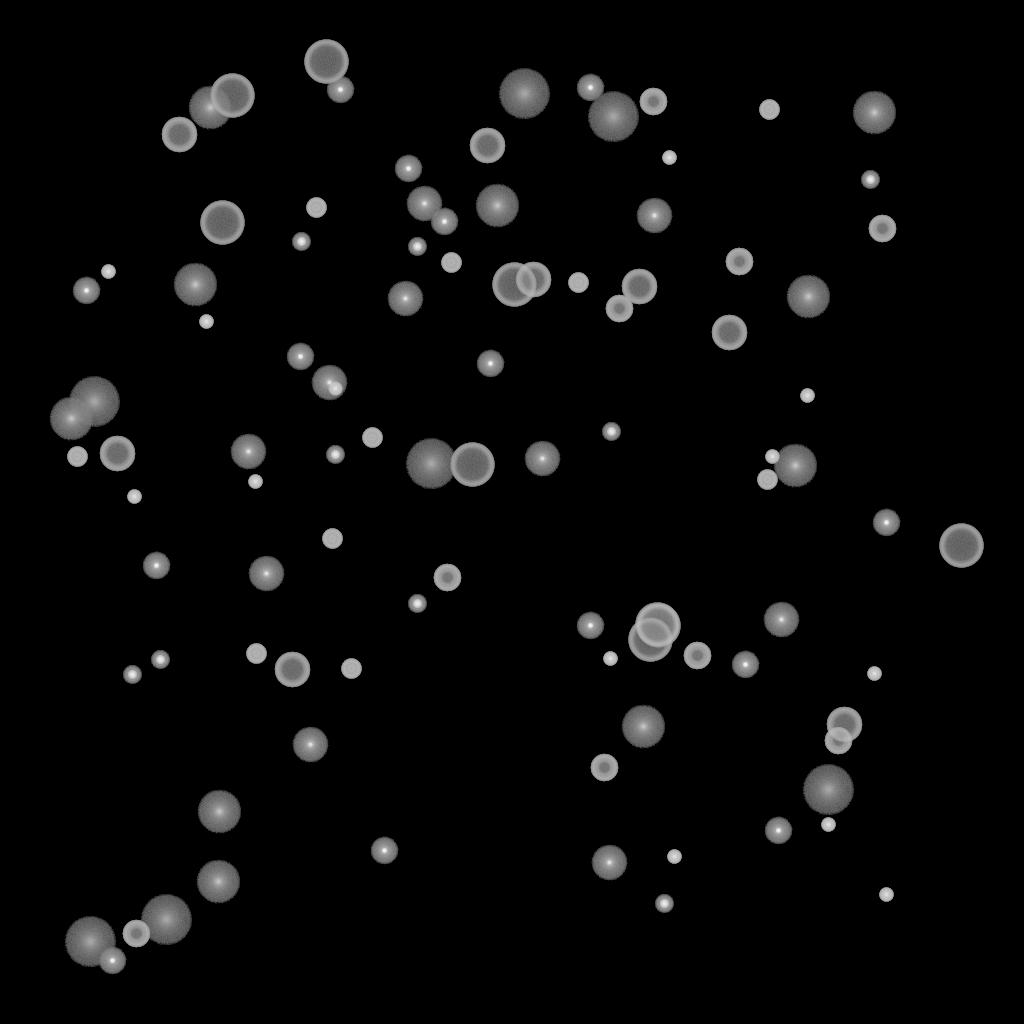depth:-10: (731, 651, 759, 679), (370, 837, 398, 865), (476, 350, 504, 378), (764, 817, 792, 845), (576, 612, 604, 640), (326, 76, 354, 104), (286, 343, 314, 371), (72, 277, 100, 305), (394, 155, 422, 183), (576, 74, 604, 102), (430, 208, 458, 236), (142, 552, 170, 580), (872, 509, 900, 537), (98, 947, 126, 975)
depth:-20: (123, 666, 141, 684), (655, 895, 673, 913), (408, 238, 426, 256), (408, 595, 426, 613), (326, 446, 344, 464), (151, 651, 169, 669), (602, 423, 620, 441), (861, 171, 879, 189), (292, 233, 310, 251)
depth:-30: (248, 475, 262, 489), (879, 888, 893, 902), (328, 382, 342, 396), (662, 151, 676, 165), (101, 265, 115, 279), (765, 450, 779, 464), (603, 652, 617, 666), (199, 315, 213, 329), (800, 389, 814, 403), (867, 667, 881, 681), (821, 818, 835, 832), (667, 850, 681, 864), (127, 490, 141, 504)
depth:-40: (568, 273, 588, 293), (306, 198, 326, 218), (757, 470, 777, 490), (67, 447, 87, 467), (759, 100, 779, 120), (322, 529, 342, 549), (246, 644, 266, 664), (441, 253, 461, 273), (362, 428, 382, 448), (341, 659, 361, 679)
depth:-50: (824, 727, 852, 755), (639, 88, 667, 116), (725, 248, 753, 276), (868, 215, 896, 243), (683, 642, 711, 670), (605, 295, 633, 323), (433, 564, 461, 592), (122, 920, 150, 948), (590, 754, 618, 782)
depth:-60: (469, 128, 505, 164), (274, 652, 310, 688), (711, 315, 747, 351), (826, 707, 862, 743), (99, 436, 135, 472), (621, 269, 657, 305), (161, 117, 197, 153), (515, 262, 551, 298)
depth:-70: (450, 443, 494, 487), (939, 524, 983, 568), (492, 263, 536, 307), (304, 40, 348, 84), (628, 618, 672, 662), (210, 74, 254, 118), (200, 201, 244, 245), (636, 604, 680, 648), (635, 603, 679, 647)
depth:0: (230, 434, 266, 470), (248, 556, 284, 592), (524, 441, 560, 477), (406, 186, 442, 222), (387, 281, 423, 317), (763, 602, 799, 638), (591, 845, 627, 881), (636, 198, 672, 234), (292, 727, 328, 763), (311, 365, 347, 401)
depth:10: (196, 860, 240, 904), (786, 275, 830, 319), (197, 790, 241, 834), (621, 705, 665, 749), (49, 397, 93, 441), (475, 184, 519, 228), (852, 91, 896, 135), (173, 263, 217, 307), (773, 444, 817, 488), (188, 86, 232, 130)
depth:20: (498, 69, 550, 119), (64, 917, 116, 967), (140, 895, 192, 945), (802, 765, 854, 815), (587, 92, 639, 142), (405, 439, 457, 489), (68, 377, 120, 427)
